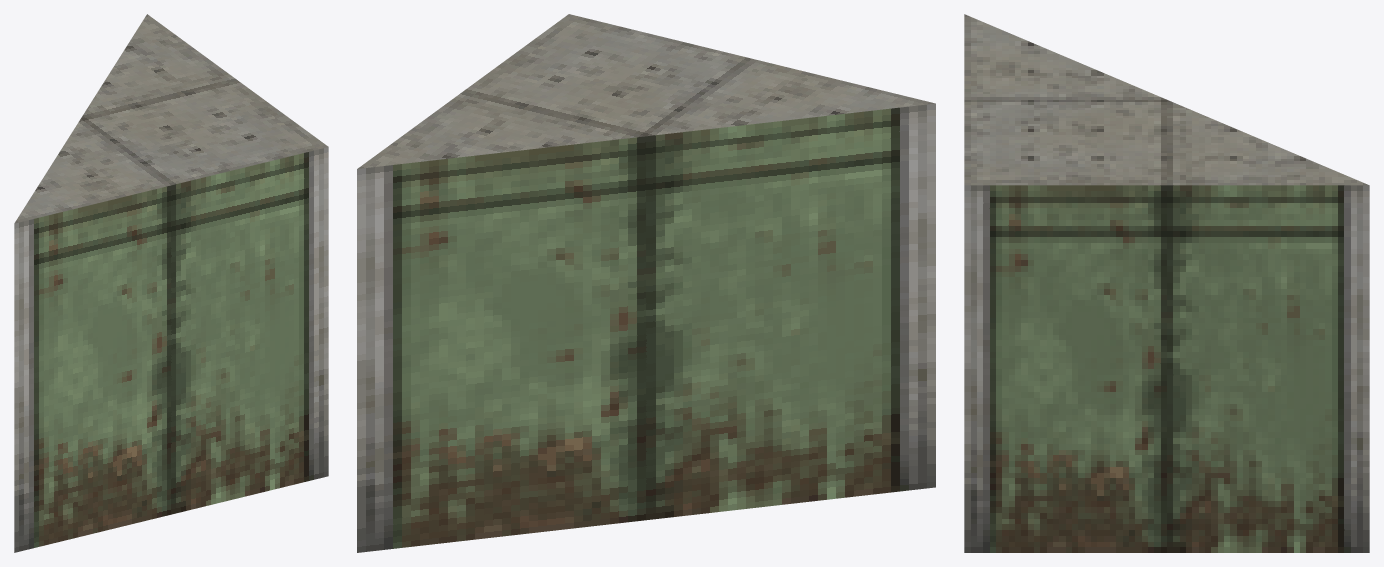
3 renders of one model, left to right at view 1: azimuth 30°, elevation 25°; view 2: azimuth 150°, elevation 25°; view 3: azimuth 270°, elevation 25°, orthographic. The views are drawn at different scales.
Parts seen in each view (by area): view 1: wall-b-diagonal; view 2: wall-b-diagonal; view 3: wall-b-diagonal.
Part boxes in pixels (x1,y1,x2,y2): wall-b-diagonal: (14,14,328,552); wall-b-diagonal: (357,14,935,552); wall-b-diagonal: (964,14,1369,552).
Bounding box in the file's own units: 1 × 1 × 1.
2 materials, 2 textured.
